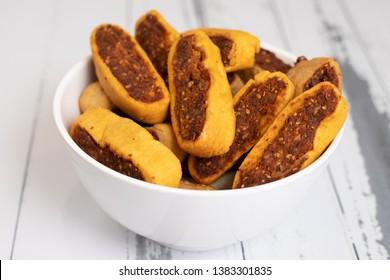bhakarwadi: (65, 11, 344, 186)
